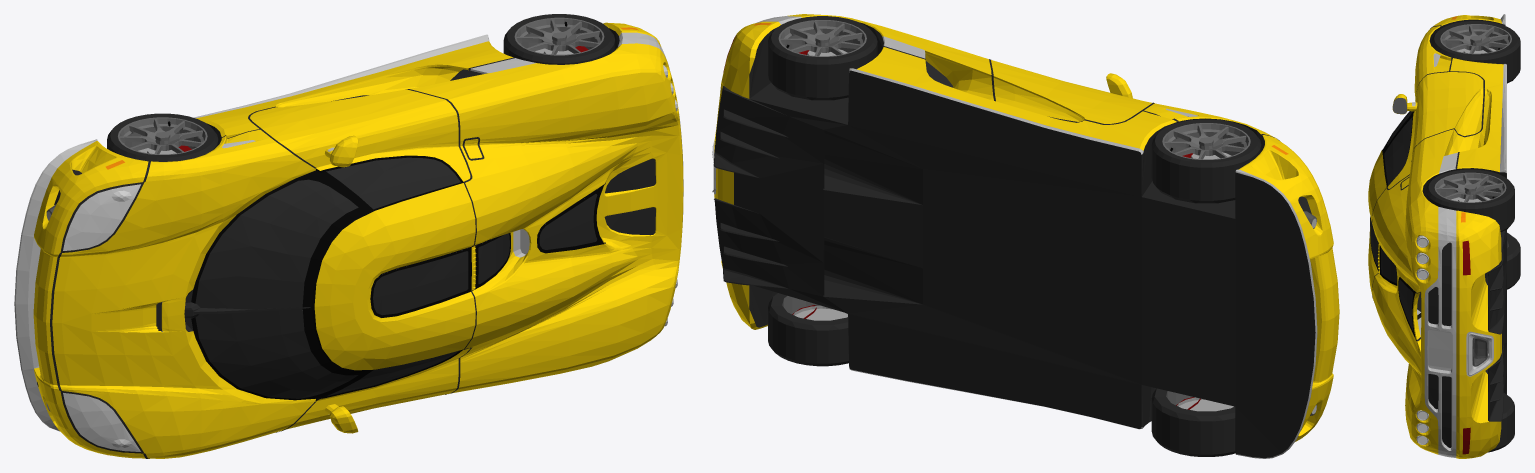
The model's file is car.dae.
3 views of the same model, side by side, from view 1: azimuth 30°, elevation 25°; view 2: azimuth 150°, elevation 25°; view 3: azimuth 270°, elevation 25° (orthographic). The views are drawn at different scales.
Parts seen in each view (by area): view 1: Model1, Model5, Model7, Model4, Model11, Model3; view 2: Model5, Model1, Model3, Model7, Model6; view 3: Model1, Model5, Model7, Model3, Model4, Model8, Model2, Model11, Model6.
Part boxes in pixels (box(x1,y1,x2,y2)): Model1: box(33, 22, 683, 458); Model5: box(37, 14, 655, 458); Model7: box(14, 32, 683, 431); Model4: box(168, 21, 604, 400); Model11: box(63, 184, 140, 451); Model3: box(118, 17, 604, 154); Model5: box(713, 16, 1315, 457); Model1: box(714, 14, 1339, 441); Model3: box(778, 20, 1250, 405); Model7: box(712, 16, 1317, 458); Model6: box(793, 49, 1233, 411); Model1: box(1368, 15, 1503, 458); Model5: box(1370, 19, 1520, 452); Model7: box(1392, 14, 1506, 457); Model3: box(1434, 24, 1511, 248); Model4: box(1370, 48, 1499, 338); Model8: box(1417, 292, 1488, 366); Model2: box(1462, 240, 1470, 454); Model11: box(1418, 238, 1427, 443); Model6: box(1451, 48, 1496, 202).
Bounding box in the file's own units: 109 × 51.37 × 28.39.
